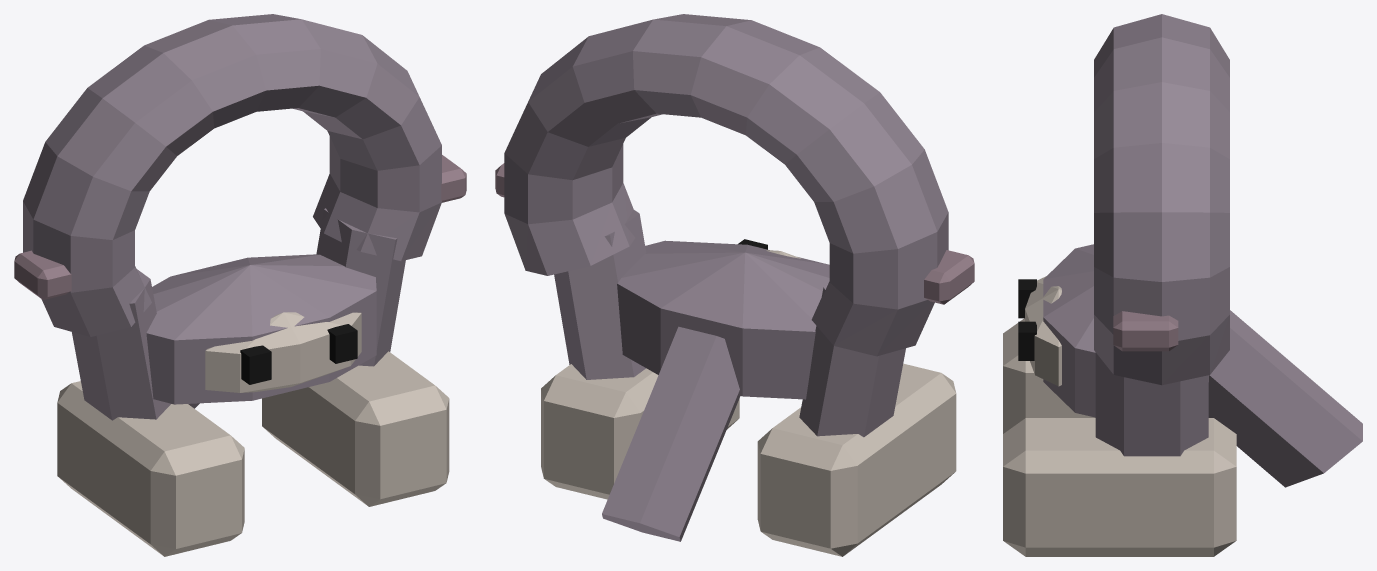
The model's file is pallbit.glb.
The picture shows the model from 3 angles, left to right: view 1: azimuth 30°, elevation 25°; view 2: azimuth 150°, elevation 25°; view 3: azimuth 270°, elevation 25°; orthographic projection. The views are drawn at different scales.
Visible parts, largest first — view 1: Pallbit; view 2: Pallbit; view 3: Pallbit.
Boxes of the visible parts, x1=… form: Pallbit: x1=14, y1=14, x2=466, y2=556; Pallbit: x1=495, y1=14, x2=974, y2=556; Pallbit: x1=1003, y1=14, x2=1362, y2=556.
Bounding box in the file's own units: 0.5 × 0.5 × 0.36.
